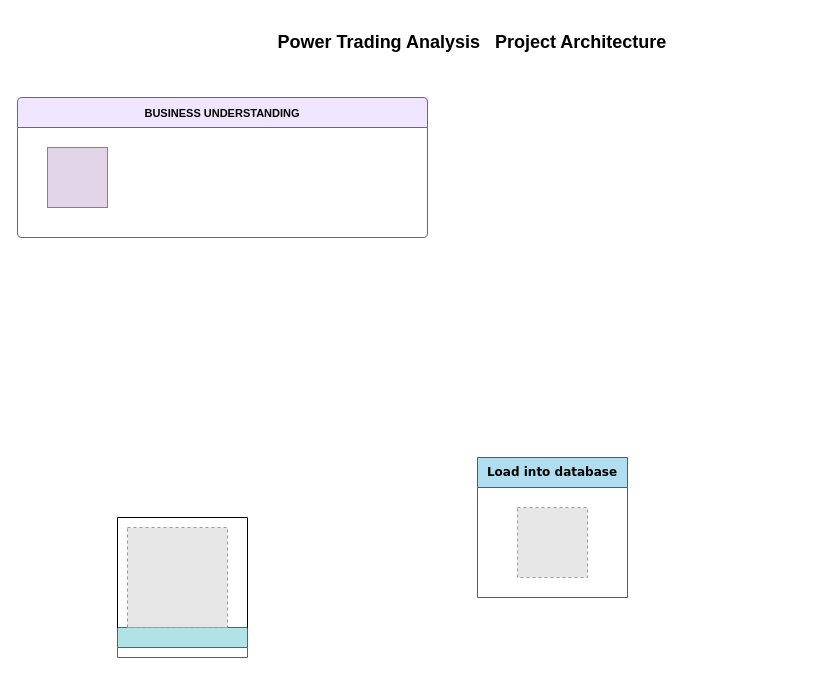
Some shapes in this 835 by 675 pixel diagram are drawn without their labels. Grey dashed boxes stand in for pictures. The shapes that lost their labels are listed below. From the top down, each one's centre as x and y in pixels, then its label:
the point at 77,177: Business objectives
the point at 182,642: Data Collection
